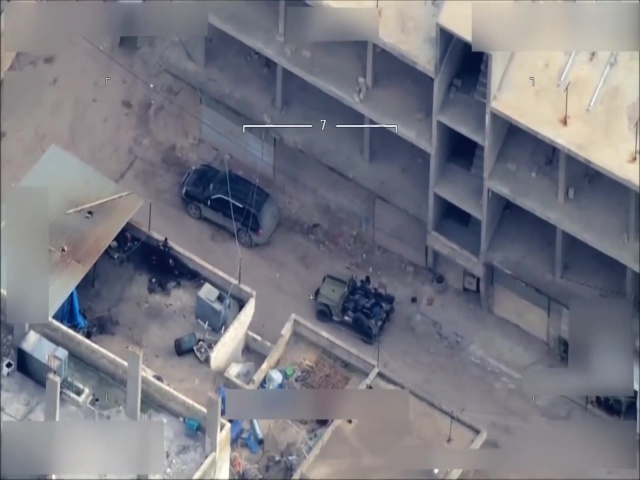vehicle: (178, 161, 282, 248), (313, 270, 395, 341)
